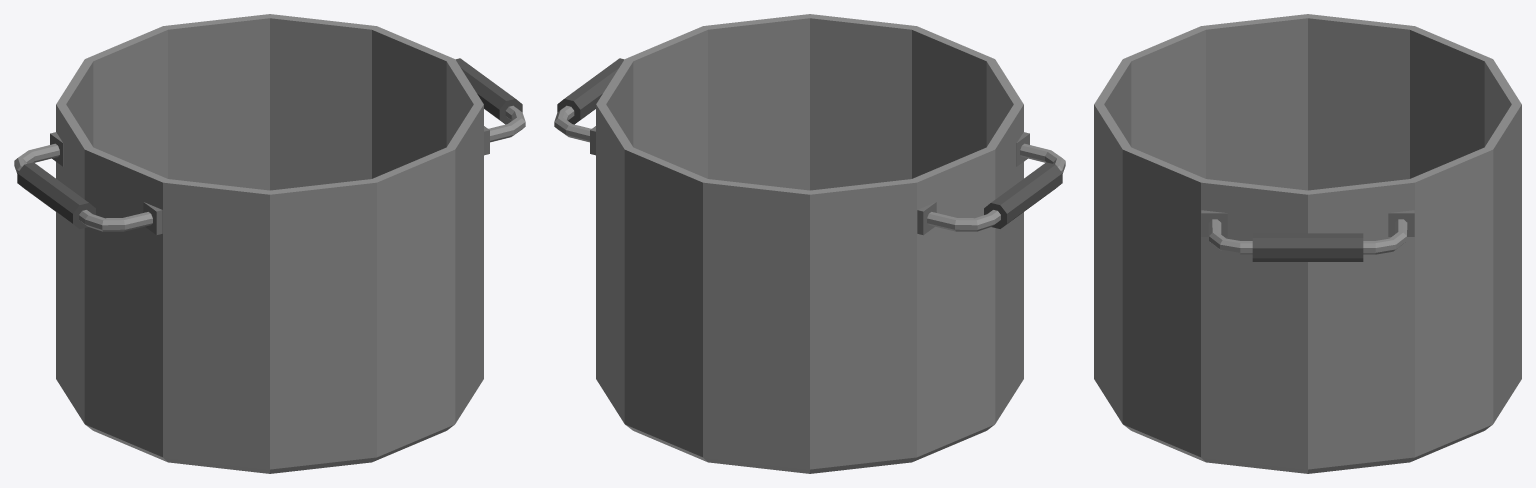
File: Pan_02.fbx
3 renders of one model, left to right at view 1: azimuth 30°, elevation 25°; view 2: azimuth 150°, elevation 25°; view 3: azimuth 270°, elevation 25°, orthographic.
Parts seen in each view (by area): view 1: Pan_02; view 2: Pan_02; view 3: Pan_02.
Part boxes in pixels (<box>): Pan_02: <box>14,14,525,473</box>; Pan_02: <box>554,14,1065,473</box>; Pan_02: <box>1094,14,1521,473</box>.
Bounding box in the file's own units: 22.28 × 13.42 × 18.36.
